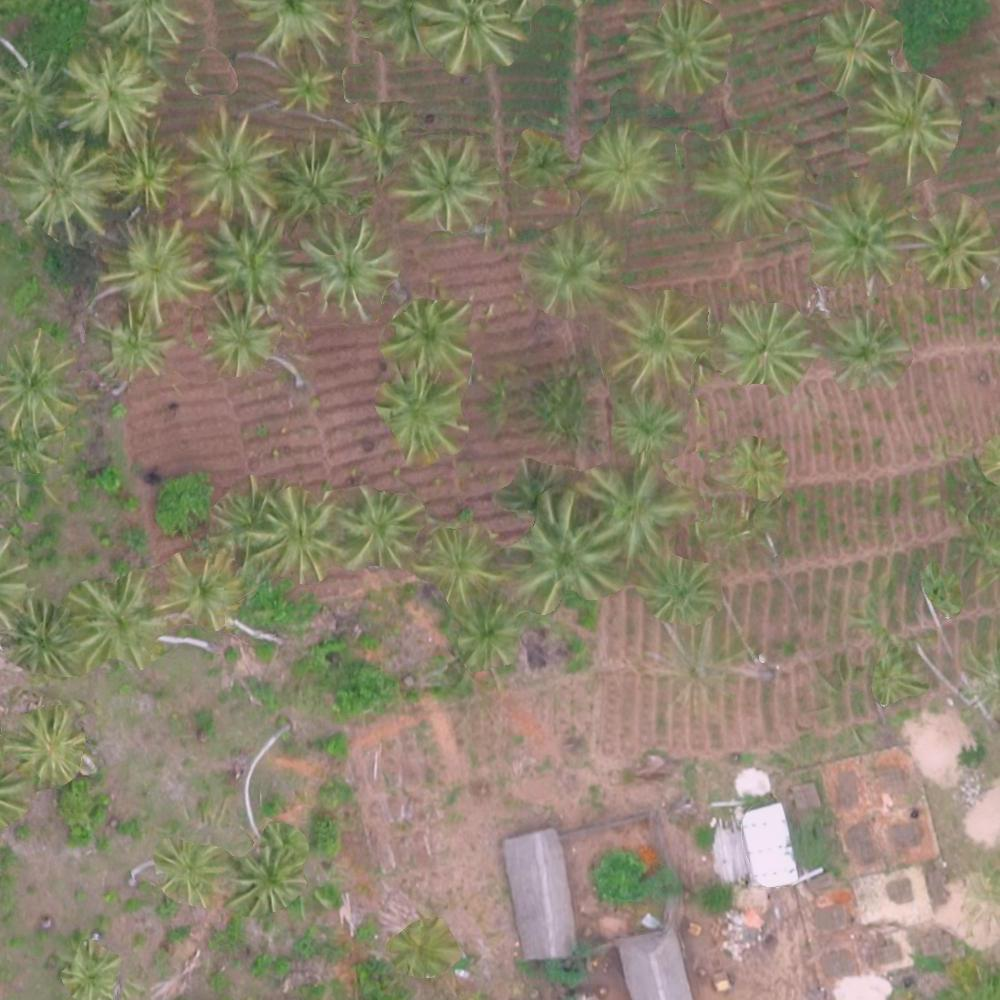Palm: (509, 495, 618, 613), (804, 188, 907, 286), (9, 142, 104, 246), (585, 459, 679, 561), (695, 132, 795, 227), (182, 118, 280, 211), (858, 77, 951, 172), (108, 221, 202, 313), (907, 202, 999, 293), (71, 580, 163, 671), (415, 1, 522, 78), (2, 335, 84, 435), (305, 217, 391, 312), (718, 302, 809, 391), (67, 50, 152, 144), (626, 8, 720, 93), (611, 290, 699, 379), (519, 228, 614, 310), (400, 143, 491, 227), (374, 374, 468, 454), (341, 486, 421, 576), (387, 294, 472, 376), (814, 9, 903, 86), (420, 521, 504, 601), (581, 129, 668, 206), (260, 490, 336, 576), (817, 313, 902, 389), (5, 706, 88, 783), (207, 217, 287, 296), (269, 135, 348, 213), (610, 386, 693, 458), (157, 548, 238, 621), (640, 552, 719, 624), (5, 602, 75, 677), (111, 140, 183, 210), (98, 314, 169, 383), (445, 605, 521, 667), (233, 844, 299, 914), (343, 104, 411, 169), (4, 55, 64, 127), (161, 836, 222, 905), (203, 305, 269, 367), (727, 436, 786, 502), (508, 132, 571, 191), (271, 63, 333, 118), (58, 946, 116, 995)
